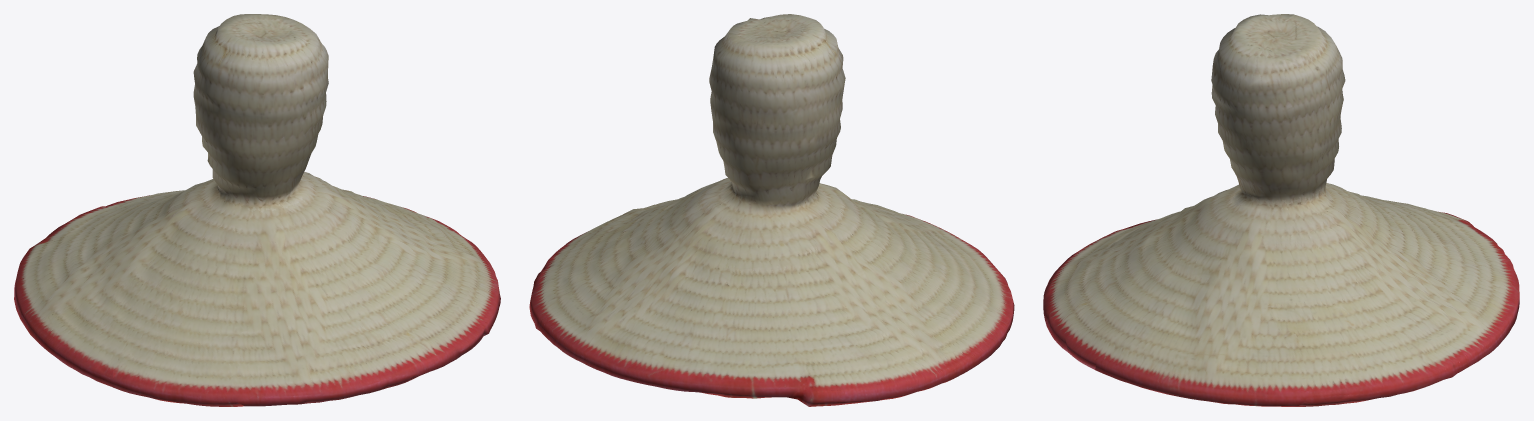
Rendered from woven-lid.gltf.
3 views of the same model, side by side, from view 1: azimuth 30°, elevation 25°; view 2: azimuth 150°, elevation 25°; view 3: azimuth 270°, elevation 25° (orthographic).
Parts seen in each view (by area): view 1: lid-optimised; view 2: lid-optimised; view 3: lid-optimised.
Part boxes in pixels (bbox=[...]): lid-optimised: bbox=[14, 14, 500, 406]; lid-optimised: bbox=[529, 14, 1014, 406]; lid-optimised: bbox=[1043, 14, 1519, 406].
Size of the model in its own units: 20.21 by 13.47 by 20.03.
Materials: 1 (1 with a texture image).
